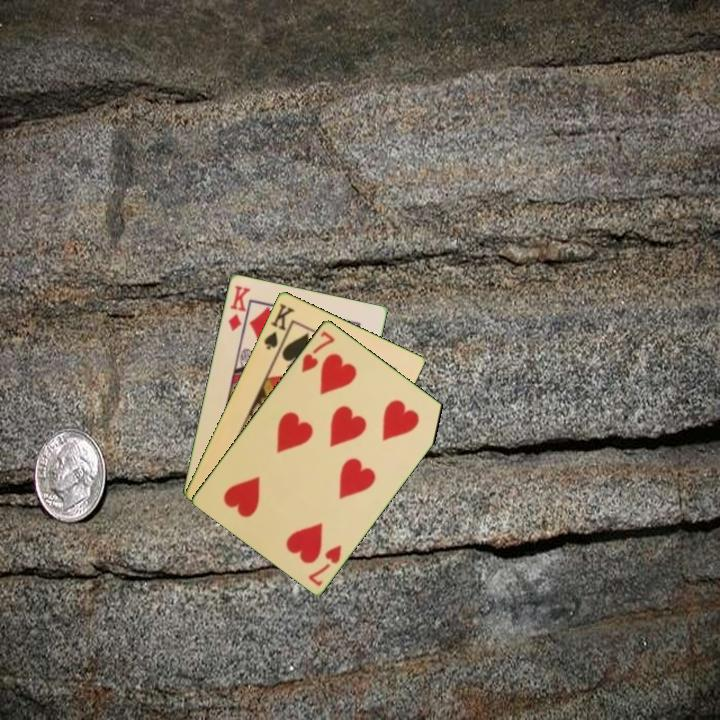7h: (298, 327, 338, 376), (305, 541, 345, 589)
Kd: (224, 282, 253, 334)
Ks: (260, 299, 297, 356)
